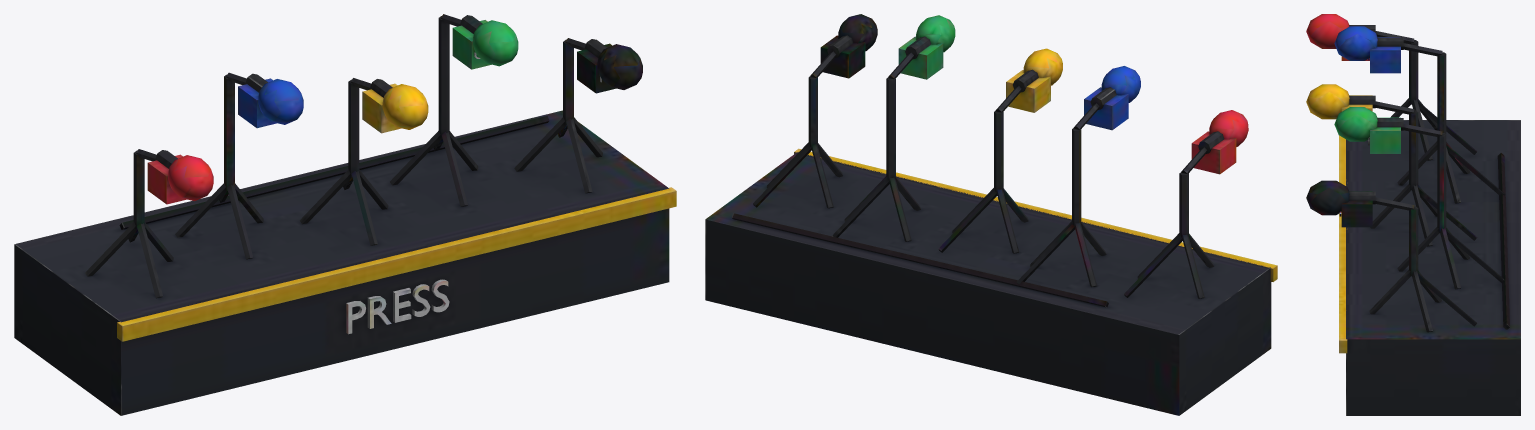
Rendered from microfonos.glb.
3 views of the same model, side by side, from view 1: azimuth 30°, elevation 25°; view 2: azimuth 150°, elevation 25°; view 3: azimuth 270°, elevation 25° (orthographic). The views are drawn at different scales.
Parts seen in each view (by area): view 1: microfonos; view 2: microfonos; view 3: microfonos.
Part boxes in pixels (<box>): microfonos: <box>14,14,676,415</box>; microfonos: <box>705,14,1277,415</box>; microfonos: <box>1306,14,1520,415</box>.
Bounding box in the file's own units: 1.86 × 0.945 × 0.7613.
1 material, 1 textured.
